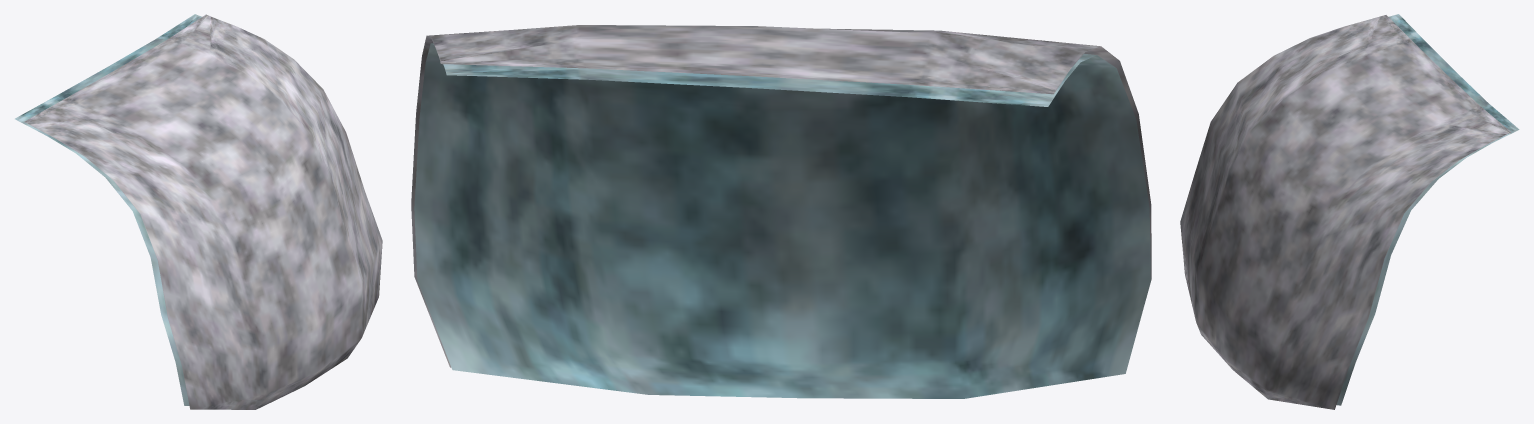
Rendered from CB_NEWPLAYSURFACE_CB_WATERFALLS01.fbx.
3 renders of one model, left to right at view 1: azimuth 30°, elevation 25°; view 2: azimuth 150°, elevation 25°; view 3: azimuth 270°, elevation 25°, orthographic. The views are drawn at different scales.
Visible parts, largest first — view 1: CB_NEWPLAYSURFACE_CB_WATERFALLS01; view 2: CB_NEWPLAYSURFACE_CB_WATERFALLS01; view 3: CB_NEWPLAYSURFACE_CB_WATERFALLS01.
Boxes of the visible parts, x1,y1,x2,y2 form: CB_NEWPLAYSURFACE_CB_WATERFALLS01: (15, 14, 382, 409); CB_NEWPLAYSURFACE_CB_WATERFALLS01: (411, 25, 1151, 398); CB_NEWPLAYSURFACE_CB_WATERFALLS01: (1180, 14, 1519, 409).
Size of the model in its own units: 77562 by 55930 by 66733.
Materials: 2 (2 with a texture image).
